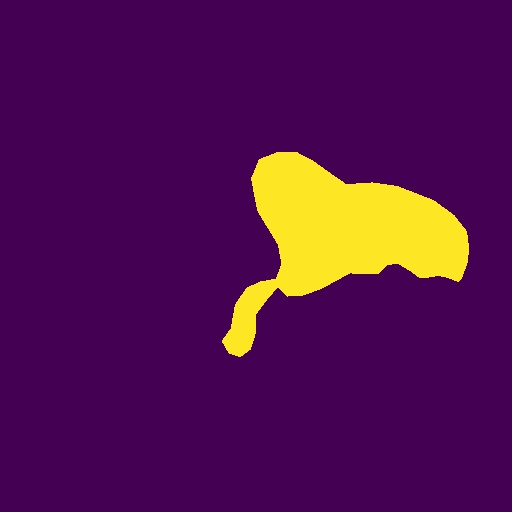Gliomia_tumour: (222, 152, 469, 357)
